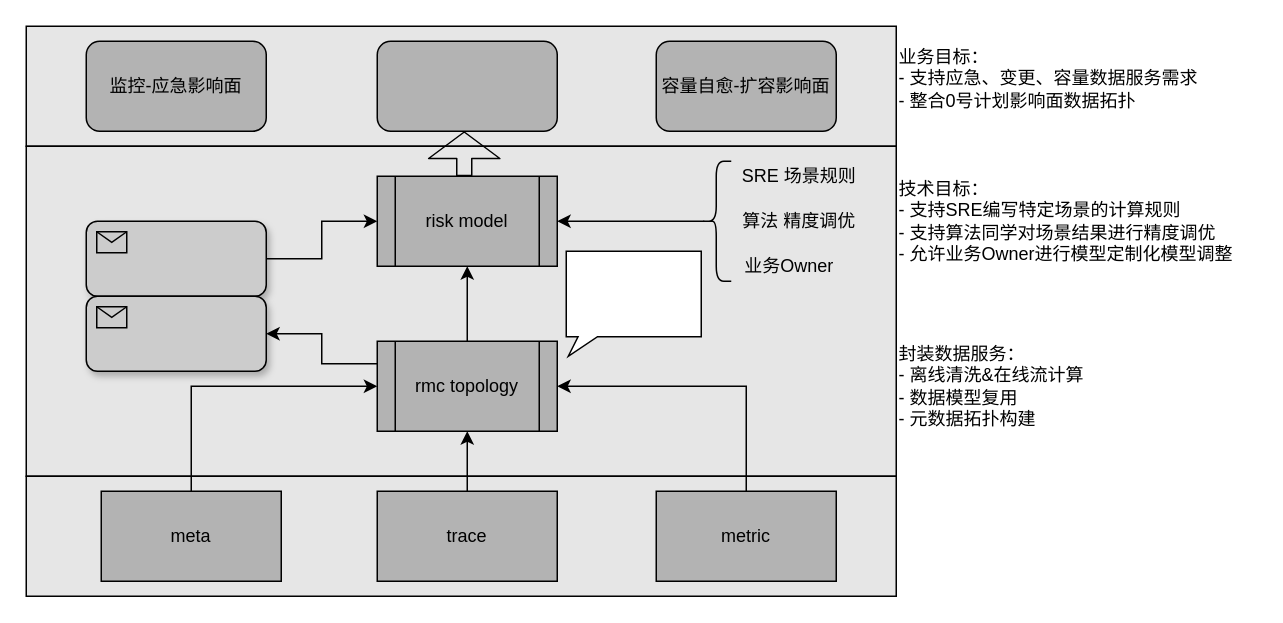
Some shapes in this 1283 by 623 pixel diagram are drawn without their labels. Each missing label, with the centre of its shape:
变更核心-变更影响面: [466,85]
在线剪枝: [177,260]
离线清洗: [177,335]
调用关系 指标相关性 依赖关系。。。: [633,303]
